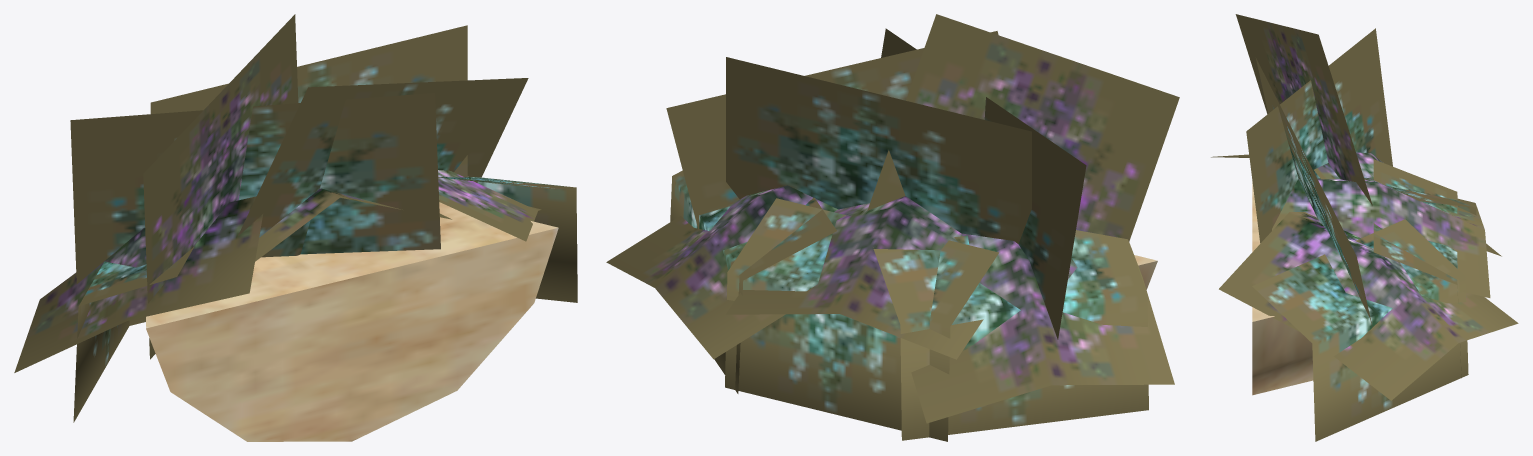
Rendered from thm_tato_imprv_planter_hanging_s01_l1.fbx.
The picture shows the model from 3 angles, left to right: view 1: azimuth 30°, elevation 25°; view 2: azimuth 150°, elevation 25°; view 3: azimuth 270°, elevation 25°; orthographic projection. The views are drawn at different scales.
Parts seen in each view (by area): view 1: mesh_node; view 2: mesh_node; view 3: mesh_node.
Boxes of the visible parts, bbox=[...] form: mesh_node: bbox=[14, 14, 577, 441]; mesh_node: bbox=[606, 14, 1179, 441]; mesh_node: bbox=[1211, 14, 1518, 441].
Bounding box in the file's own units: 1.34 × 0.9149 × 0.7746.
